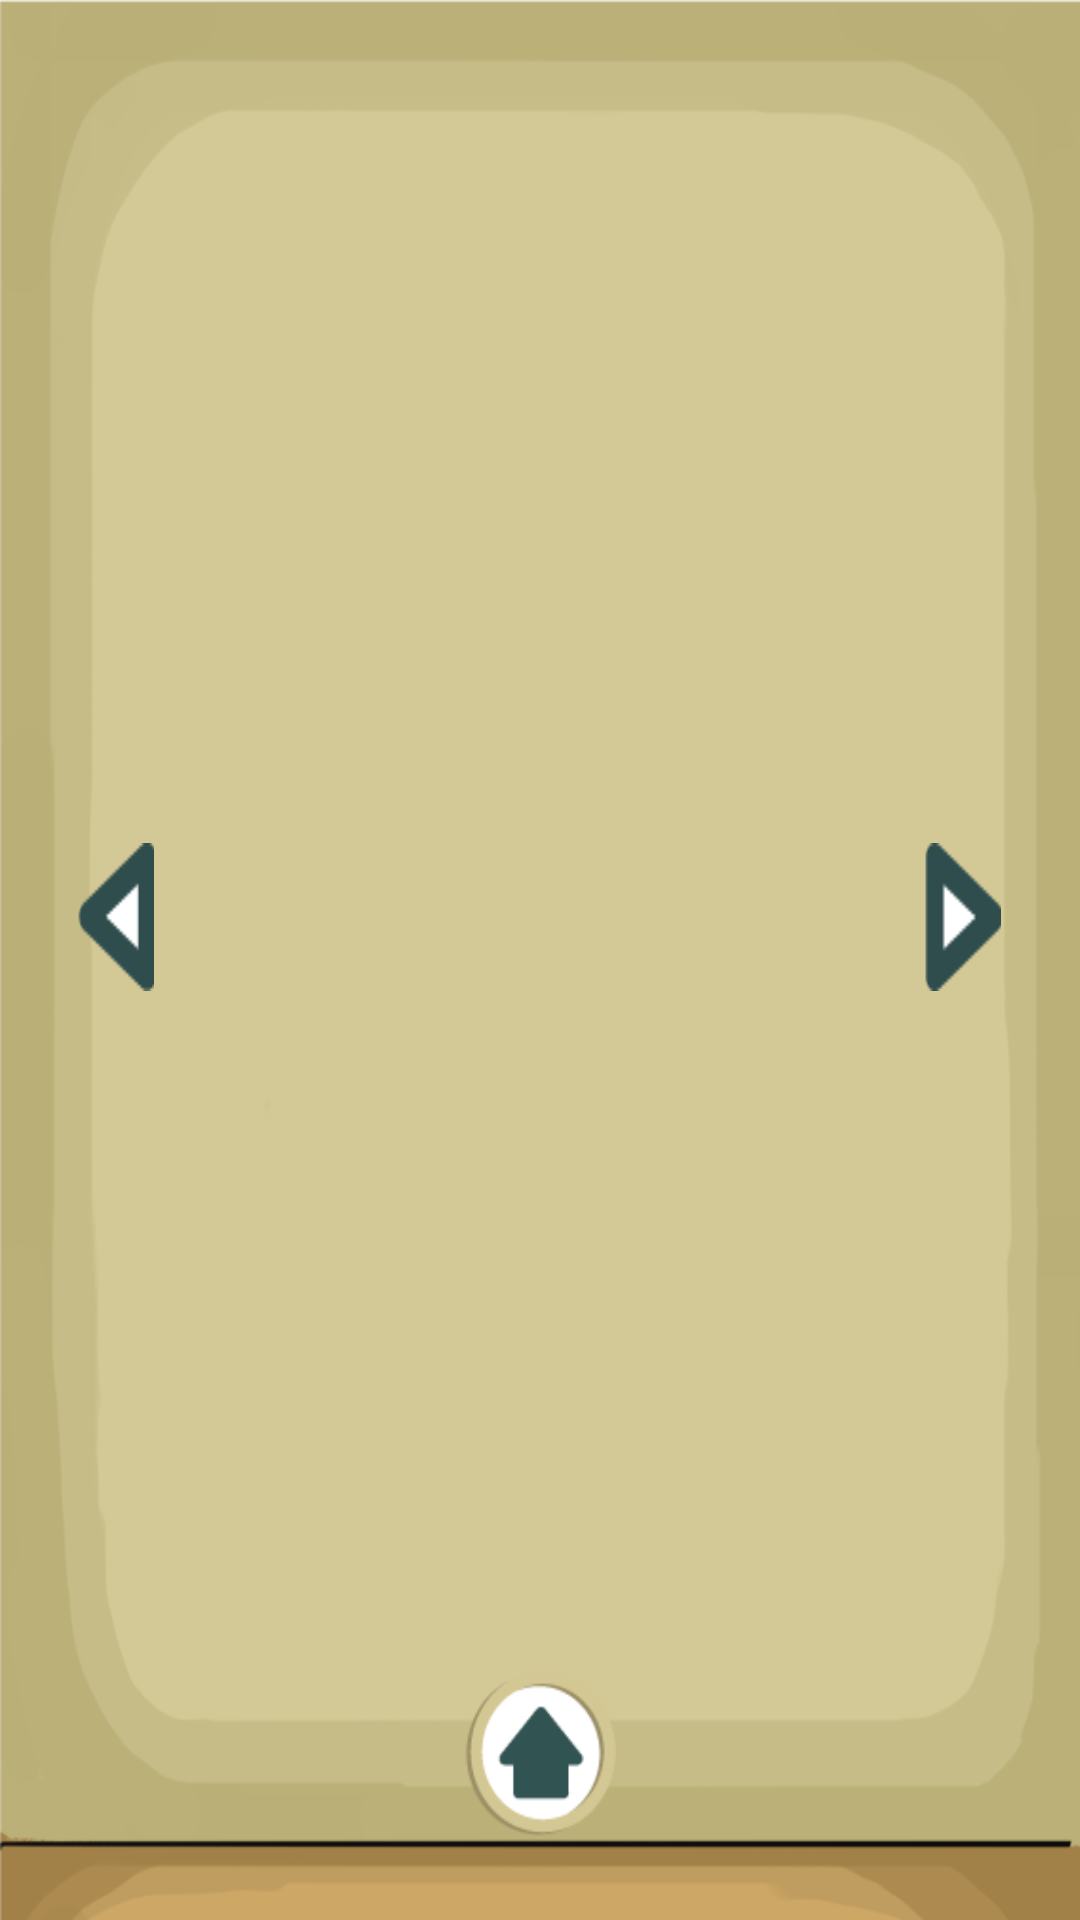

Icons on this 1080*1920 Android screen, each with its box as bbox(x1, y1, x2, y2):
adelante: bbox(925, 843, 1001, 991)
atras: bbox(78, 843, 154, 991)
botonhome: bbox(481, 1684, 605, 1820)
